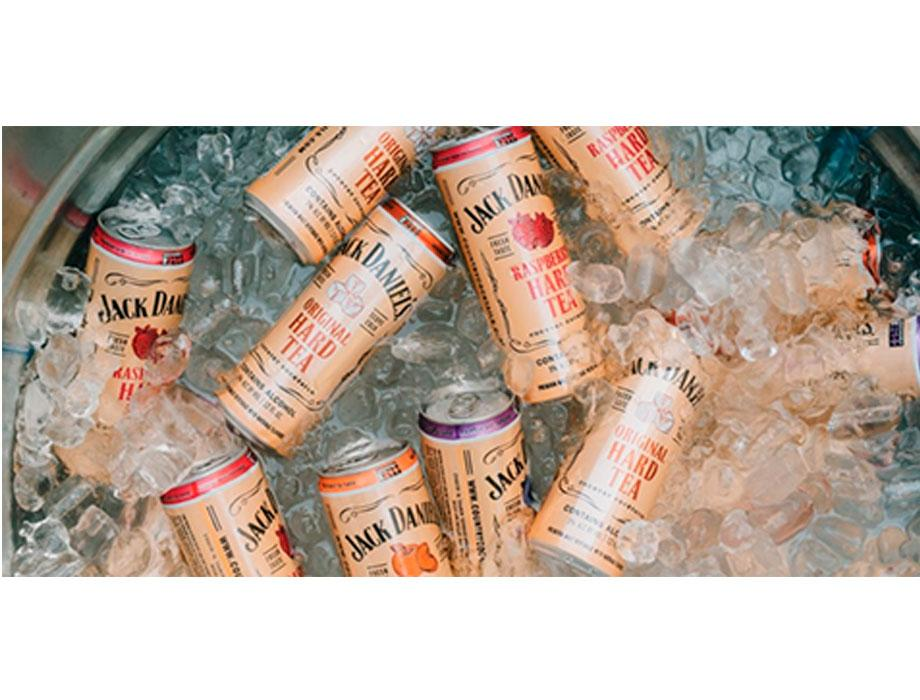lata: (203, 190, 464, 466), (513, 336, 723, 604), (426, 117, 611, 413), (234, 72, 435, 272), (529, 76, 709, 277), (56, 203, 200, 436), (303, 419, 457, 609), (152, 443, 303, 612), (412, 386, 539, 580)
